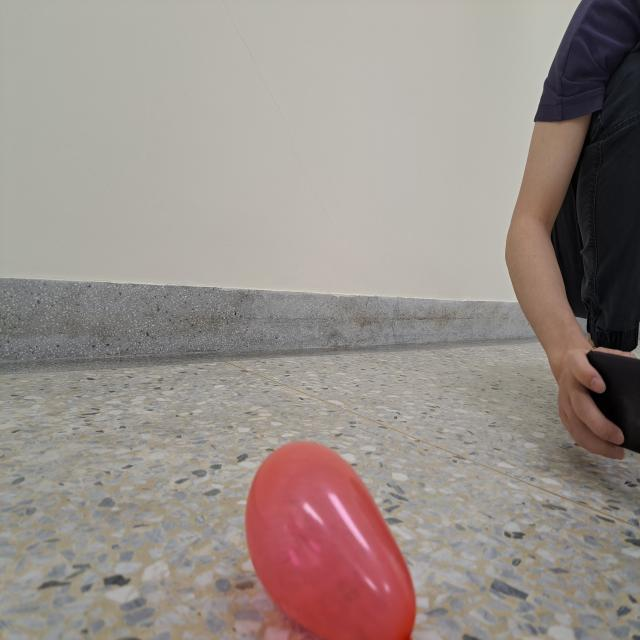red: (245, 439, 416, 640)
